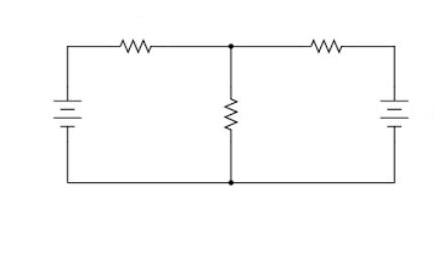resistor: (213, 85, 248, 141), (297, 28, 351, 62), (108, 27, 164, 59)
